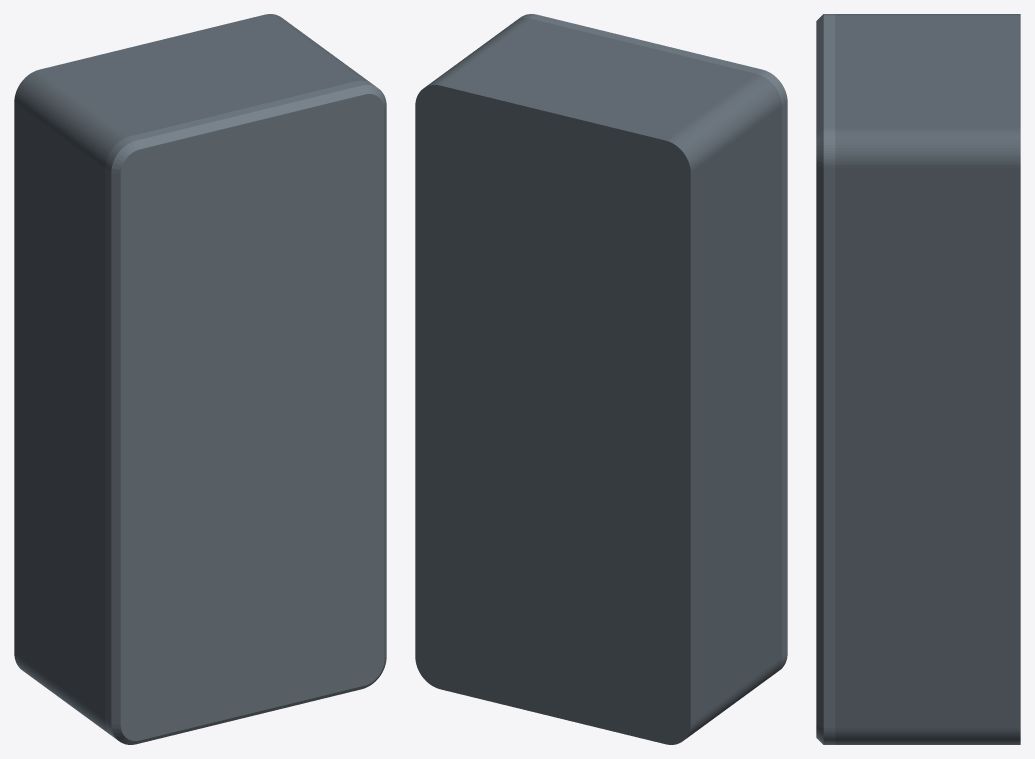
The model's file is easyduino-pico_assembly.glb.
The picture shows the model from 3 angles, left to right: view 1: azimuth 30°, elevation 25°; view 2: azimuth 150°, elevation 25°; view 3: azimuth 270°, elevation 25°; orthographic projection.
Visible parts, largest first — view 1: lid, bottom; view 2: bottom, lid; view 3: bottom, lid.
Boxes of the visible parts, x1=… form: lid: x1=105, y1=80, x2=386, y2=744; bottom: x1=14, y1=14, x2=370, y2=735; bottom: x1=415, y1=18, x2=781, y2=744; lid: x1=516, y1=14, x2=787, y2=673; bottom: x1=835, y1=14, x2=1020, y2=744; lid: x1=816, y1=14, x2=835, y2=744.
Size of the model in its own units: 27.4 by 57.4 by 17.3.
